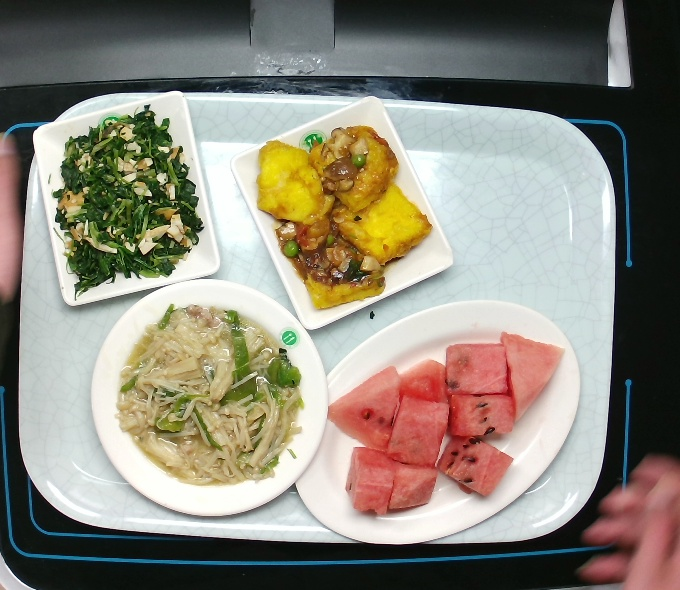wcq-CuiPiDouFu: (248, 118, 438, 313)
wcq-JinZhenGu: (103, 289, 313, 496)
wcq-MaLanTouChaoDouGan: (42, 101, 208, 304)
wcq-XiGua: (321, 327, 571, 517)
